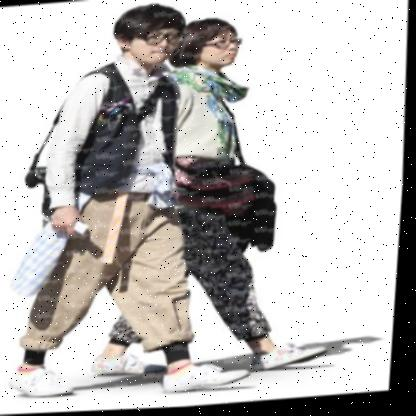person: (0, 0, 203, 410), (151, 3, 349, 384)
